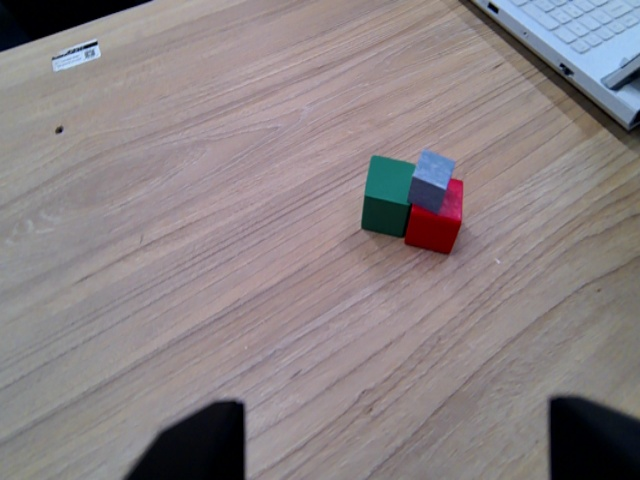stone: (407, 144, 458, 216)
